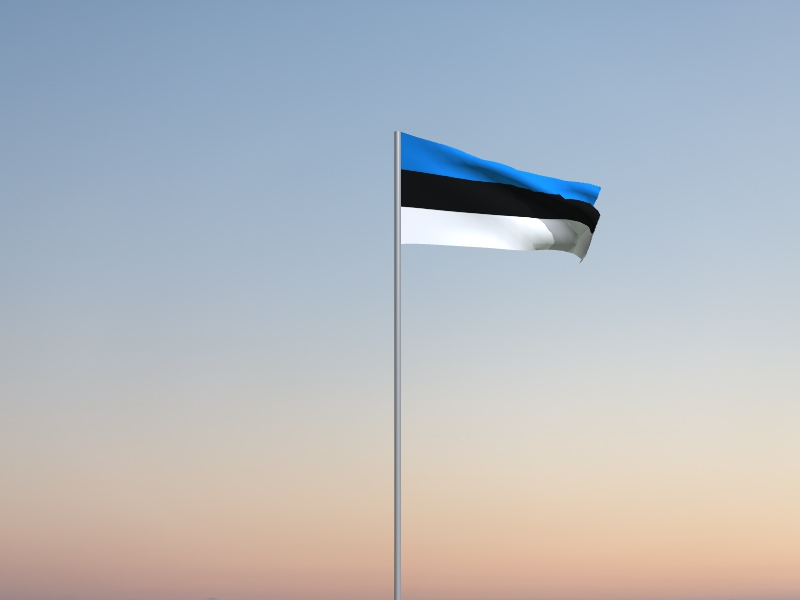ee: (402, 133, 603, 266)
